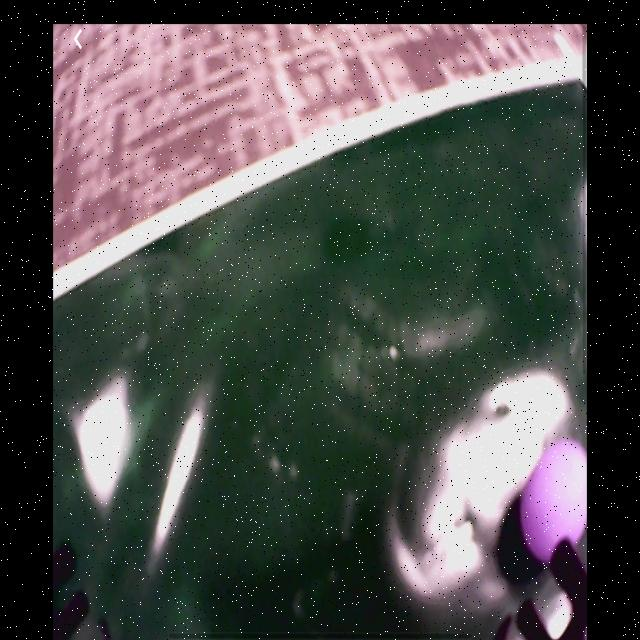ball: (523, 438, 585, 575)
